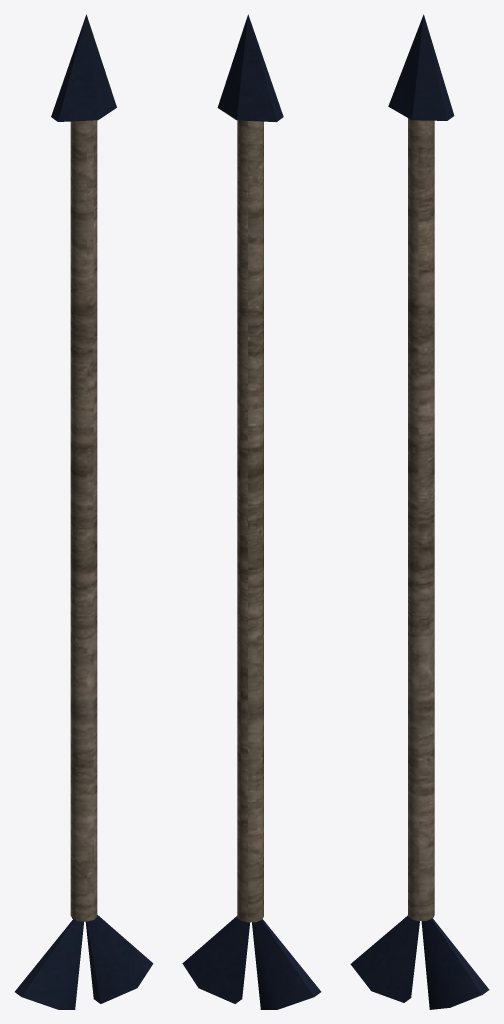
Rendered from Flecha.fbx.
The picture shows the model from 3 angles, left to right: view 1: azimuth 30°, elevation 25°; view 2: azimuth 150°, elevation 25°; view 3: azimuth 330°, elevation 25°; orthographic projection.
Parts seen in each view (by area): view 1: pCube71; view 2: pCube71; view 3: pCube71.
Boxes of the visible parts, x1=… form: pCube71: x1=15, y1=14, x2=153, y2=1009; pCube71: x1=182, y1=14, x2=321, y2=1009; pCube71: x1=350, y1=14, x2=489, y2=1009.
Size of the model in its own units: 2.34 by 16.77 by 0.7368.
Materials: 1 (1 with a texture image).
